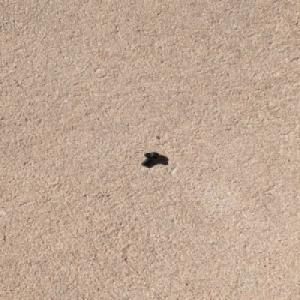BoltWasher: (140, 151, 162, 166)
